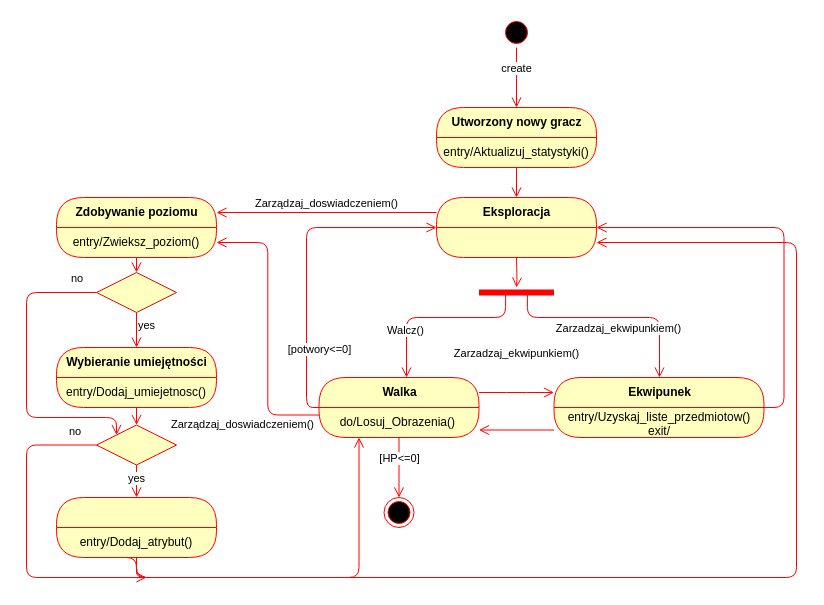
Image size: 824x605. Some labels were removed from this diagram. The box of each missing label's shape, as (x1, y1, x2, y2) in pixels:
czy wybiera sie umiejętność?: (96, 272, 176, 312)
czy wybiera się atrybut?: (96, 424, 176, 465)
Wybieranie atrybutu: (56, 496, 216, 558)
